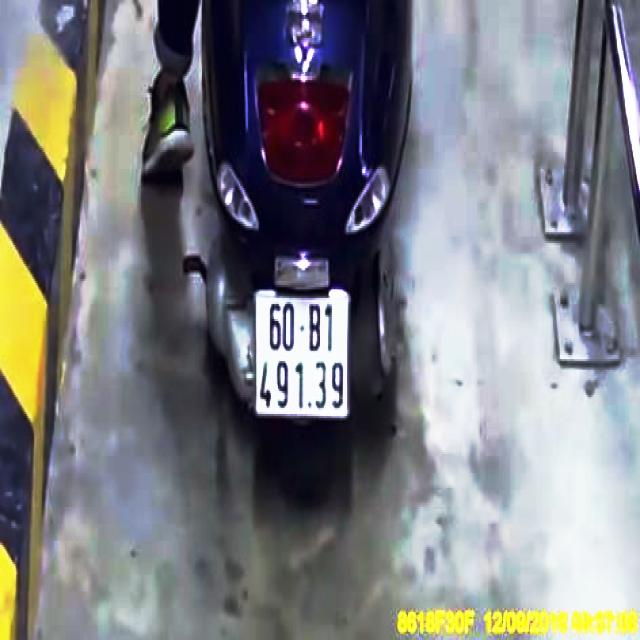license_plate: (258, 293, 349, 418)
